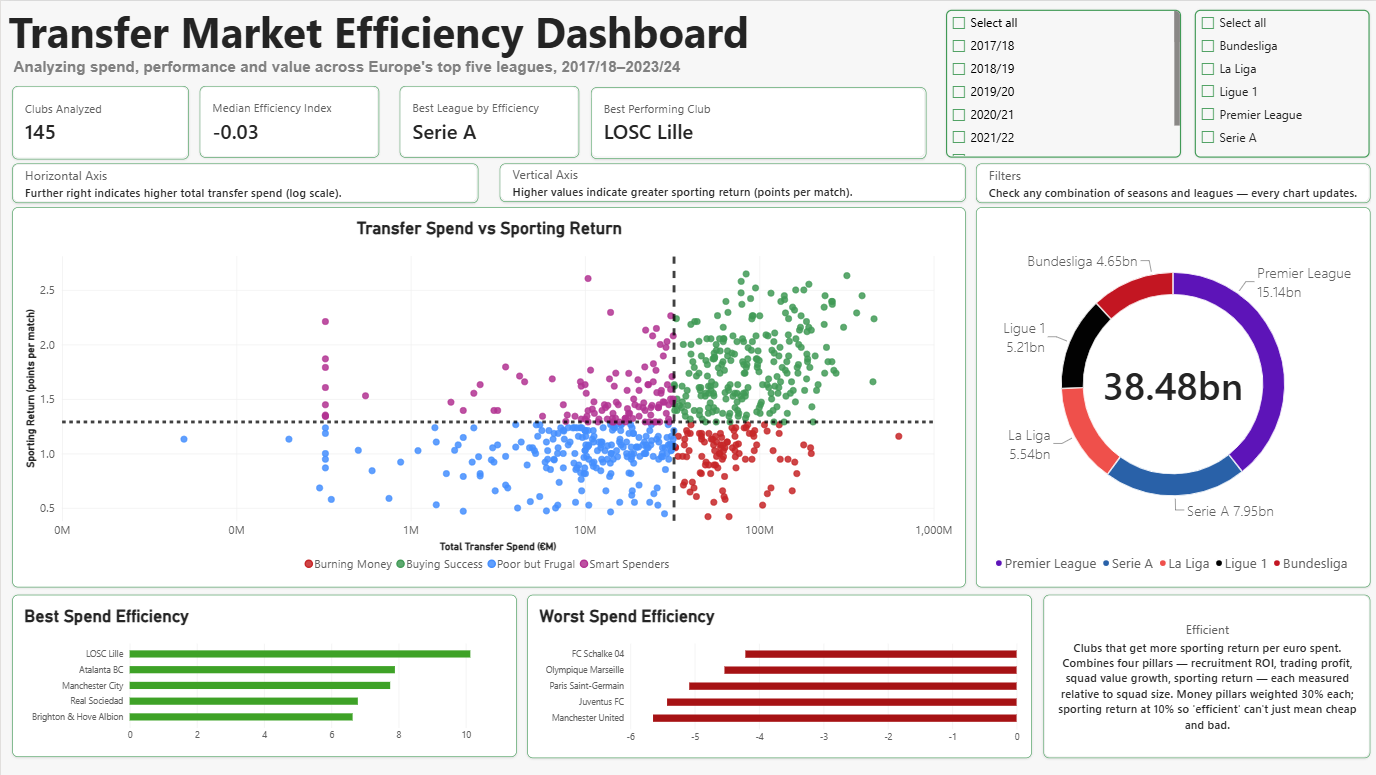

The page's visual inventory and layout, read from the dashboard file:
{"tool":"powerbi","page":{"name":"Leagues Overview","canvas":[1920,1080],"ordinal":0},"visuals":[{"type":"cardVisual","fields":{"Data":["presentation vw_league_overview.Clubs Analyzed"]},"box":[16,118.2,246,102],"z":0},{"type":"cardVisual","fields":{"Data":["presentation vw_league_overview.Median Efficiency Index"]},"box":[278,119.2,250,100],"z":1000},{"type":"cardVisual","fields":{"Data":["presentation vw_league_overview.Best Performing Club"]},"box":[823.1,120,467.7,99.8],"z":2000},{"type":"cardVisual","fields":{"Data":["presentation vw_league_overview.Best League by Efficiency"]},"box":[556,119.2,250,100],"z":3000},{"type":"scatterChart","title":"Transfer Spend vs Sporting Return","fields":{"Category":["presentation vw_league_overview.club_season_key"],"Series":["presentation vw_league_overview.Quadrant"],"X":["Sum(presentation vw_league_overview.Spend For Log)"],"Y":["Sum(presentation vw_league_overview.points_per_match)"]},"box":[16.2,287.5,1330,530],"z":4000},{"type":"donutChart","fields":{"Category":["presentation vw_club_spend_by_league.league"],"Y":["Sum(presentation vw_club_spend_by_league.gross_spend_eur)"]},"box":[1360,288,550,530],"z":5000},{"type":"barChart","title":"Worst Spend Efficiency","fields":{"Category":["presentation vw_league_overview.club_name"],"Y":["Sum(presentation vw_league_overview.efficiency_index)"]},"box":[734,828,704,228],"z":6000},{"type":"barChart","title":"Best Spend Efficiency","fields":{"Category":["presentation vw_league_overview.club_name"],"Y":["Sum(presentation vw_league_overview.efficiency_index)"]},"box":[16,828,704,226],"z":7000},{"type":"slicer","fields":{"Values":["DimSeason.season"]},"box":[1318.8,12.5,328.3,206.7],"z":8000},{"type":"slicer","fields":{"Values":["DimLeague.league"]},"box":[1666.5,12.5,244,206],"z":9000},{"type":"cardVisual","fields":{"Data":["presentation vw_league_overview.Def Vertical Axis"]},"box":[696,227,650,53.3],"z":10000},{"type":"cardVisual","fields":{"Data":["presentation vw_league_overview.Def Efficient"]},"box":[1454,828,456,228],"z":11000},{"type":"cardVisual","fields":{"Data":["presentation vw_league_overview.Def Filters"]},"box":[1360,227.5,550,55],"z":12000},{"type":"cardVisual","fields":{"Data":["presentation vw_league_overview.Def Horizontal Axis"]},"box":[16.2,227,650,55],"z":13000},{"type":"textbox","box":[10,2,1076,78],"z":14000},{"type":"textbox","box":[18,80,968,54],"z":15000}]}

Visuals, with their boxes in screenshot pixels (x1, y1, x2, y2), scaled from the page's 1920x1080 canvas onto the 1376x775 screenshot:
cardVisual - presentation vw_league_overview.Clubs Analyzed: detection(11, 85, 188, 158)
cardVisual - presentation vw_league_overview.Median Efficiency Index: detection(199, 86, 378, 157)
cardVisual - presentation vw_league_overview.Best Performing Club: detection(590, 86, 925, 158)
cardVisual - presentation vw_league_overview.Best League by Efficiency: detection(398, 86, 578, 157)
"Transfer Spend vs Sporting Return" scatterChart: detection(12, 206, 965, 587)
donutChart - presentation vw_club_spend_by_league.league x Sum(presentation vw_club_spend_by_league.gross_spend_eur): detection(975, 207, 1369, 587)
"Worst Spend Efficiency" barChart: detection(526, 594, 1031, 758)
"Best Spend Efficiency" barChart: detection(11, 594, 516, 756)
slicer - DimSeason.season: detection(945, 9, 1180, 157)
slicer - DimLeague.league: detection(1194, 9, 1369, 157)
cardVisual - presentation vw_league_overview.Def Vertical Axis: detection(499, 163, 965, 201)
cardVisual - presentation vw_league_overview.Def Efficient: detection(1042, 594, 1369, 758)
cardVisual - presentation vw_league_overview.Def Filters: detection(975, 163, 1369, 203)
cardVisual - presentation vw_league_overview.Def Horizontal Axis: detection(12, 163, 477, 202)
textbox: detection(7, 1, 778, 57)
textbox: detection(13, 57, 707, 96)
